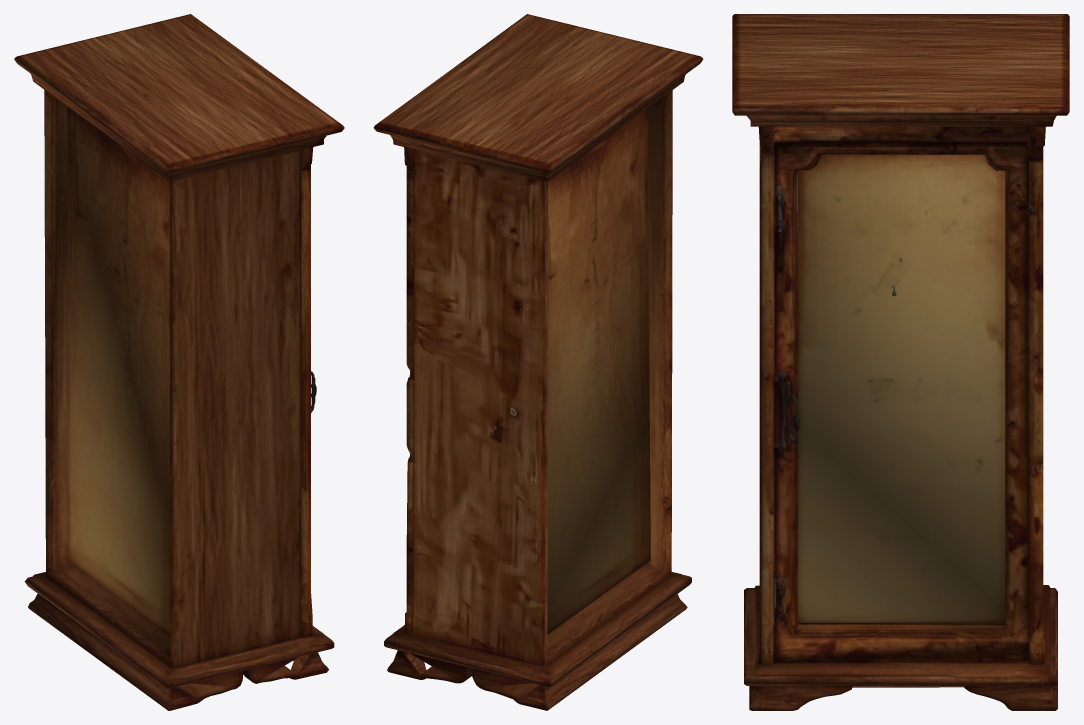
The picture shows the model from 3 angles, left to right: view 1: azimuth 30°, elevation 25°; view 2: azimuth 150°, elevation 25°; view 3: azimuth 270°, elevation 25°; orthographic projection. The views are drawn at different scales.
Visible parts, largest first — view 1: tripo_node_064fcc93-0645-440c-afa7-7dc42268d629; view 2: tripo_node_064fcc93-0645-440c-afa7-7dc42268d629; view 3: tripo_node_064fcc93-0645-440c-afa7-7dc42268d629.
Part boxes in pixels (box(x1,y1,x2,y2)): tripo_node_064fcc93-0645-440c-afa7-7dc42268d629: box(14, 14, 344, 710); tripo_node_064fcc93-0645-440c-afa7-7dc42268d629: box(373, 14, 703, 710); tripo_node_064fcc93-0645-440c-afa7-7dc42268d629: box(732, 14, 1069, 710).
Bounding box in the file's own units: 0.3379 × 0.998 × 0.502.
1 material, 1 textured.
